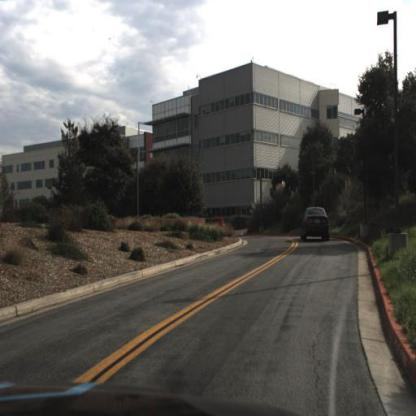car: (299, 207, 332, 247), (208, 216, 227, 235)
